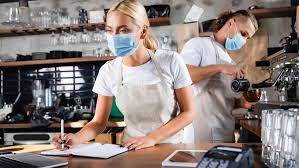FaceMask: (107, 35, 140, 55)
